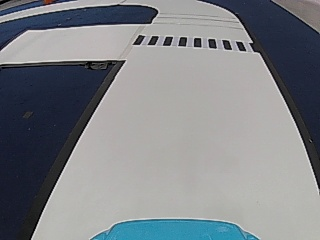CrossWalk: (129, 34, 254, 52)
